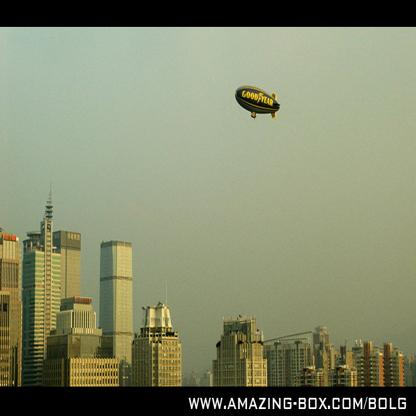Airship: (232, 83, 284, 125)
